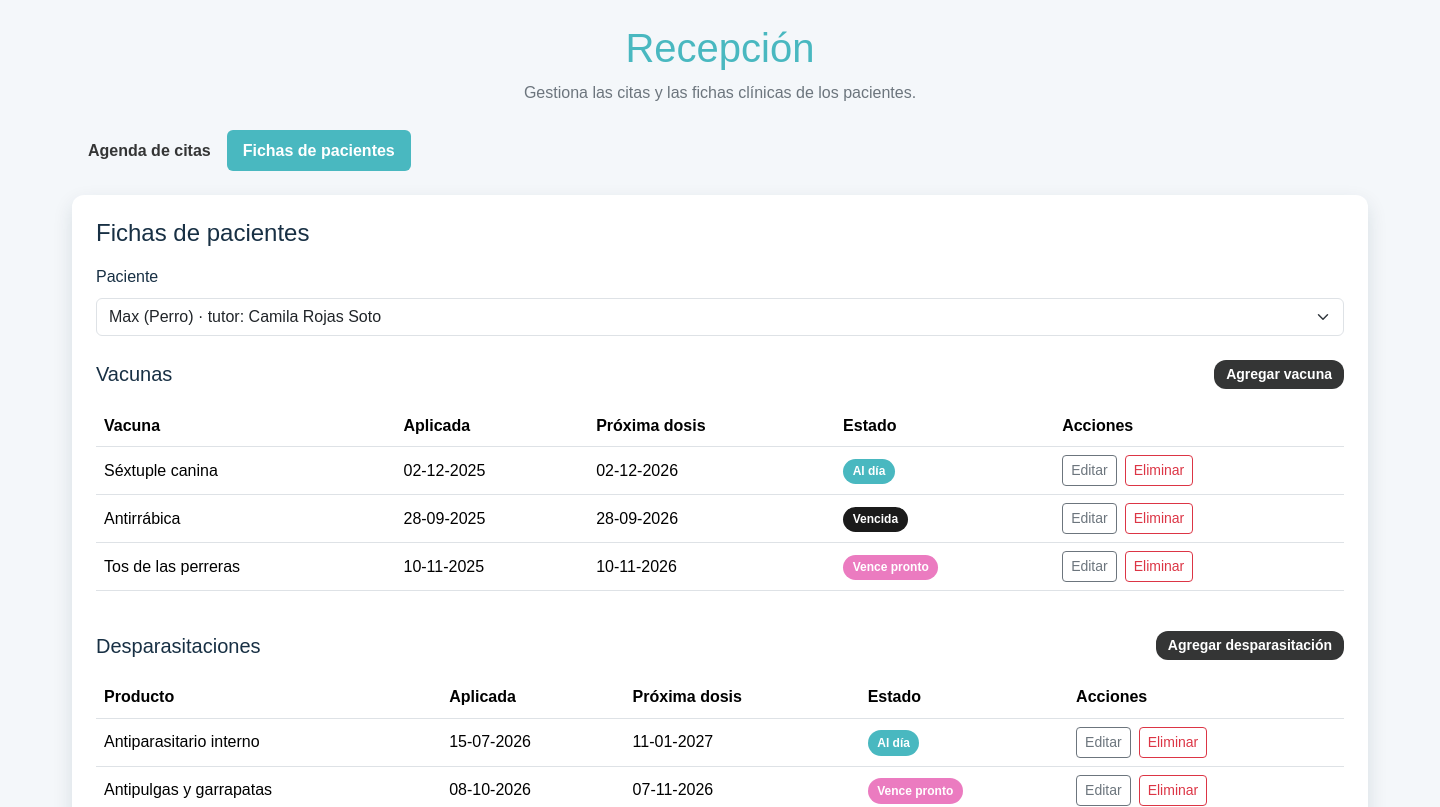
Scenario: FichasPacientes › elimina un registro solo si se confirma
Click the button "Eliminar" in the row of "Antirrábica" at (1159, 519), box [1125,503,1193,534]
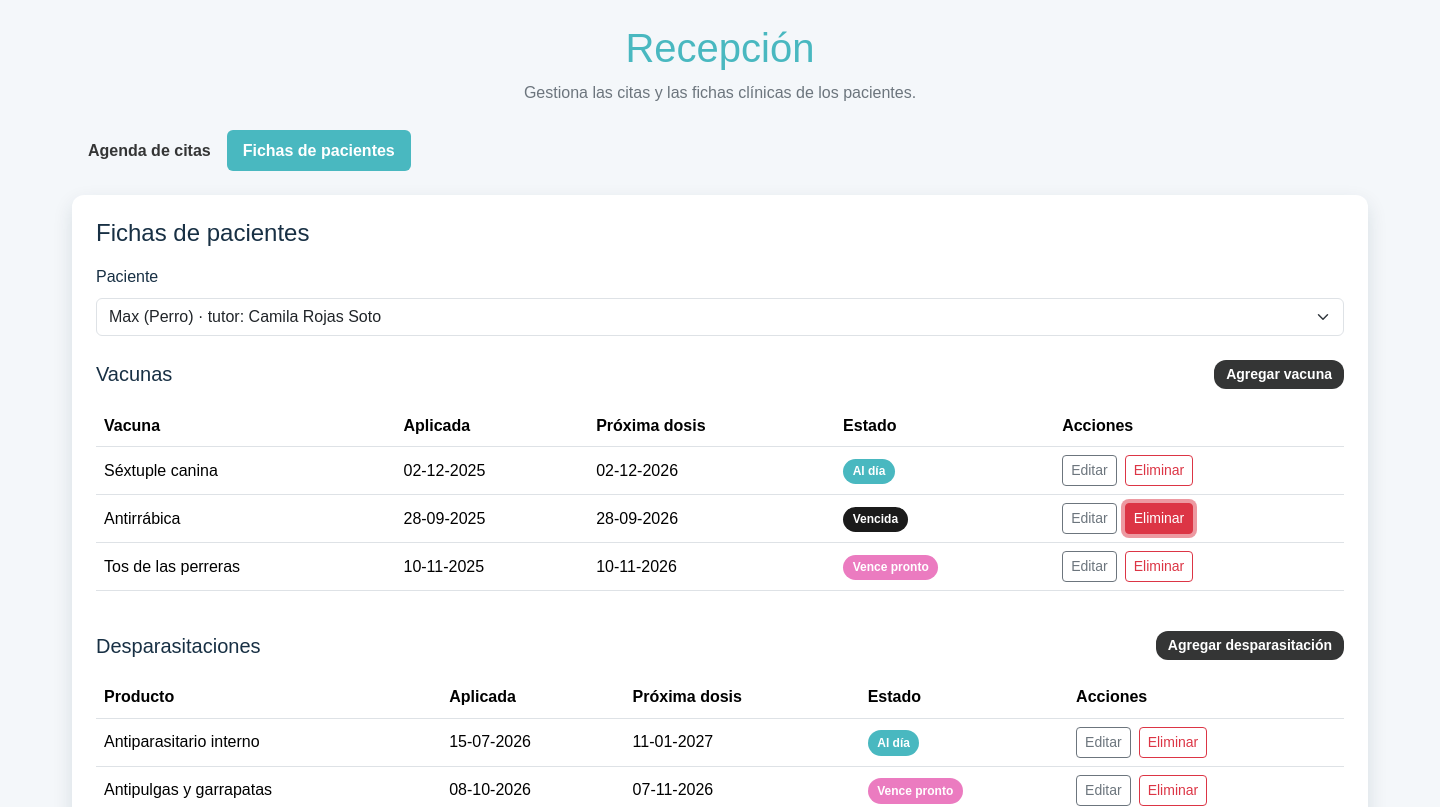
Expected: the text "Antirrábica" is shown, [96,495,396,543]
Click the button "Eliminar" in the row of "Antirrábica" at (1159, 519), box [1125,503,1193,534]
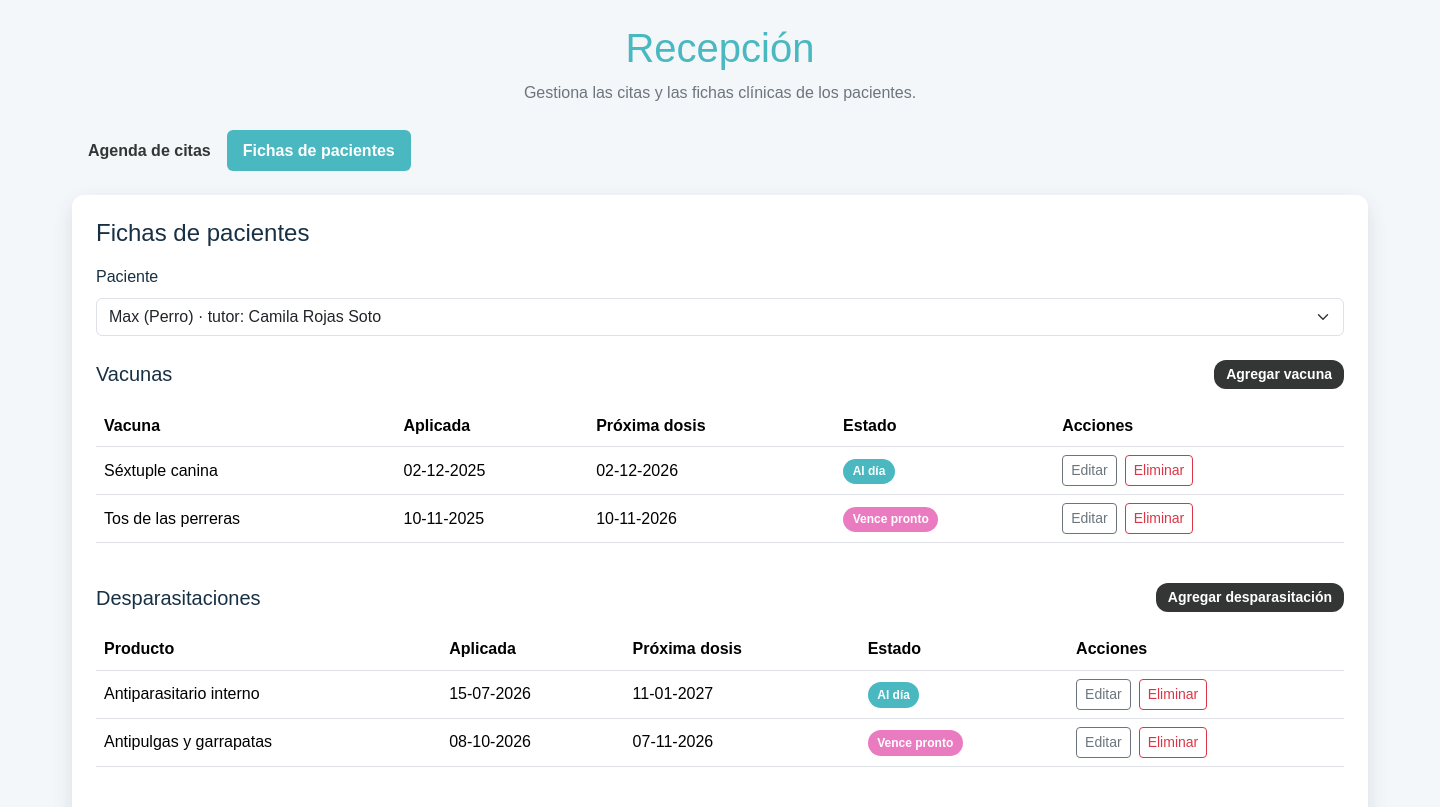
Expected: the text "Antirrábica" is gone
